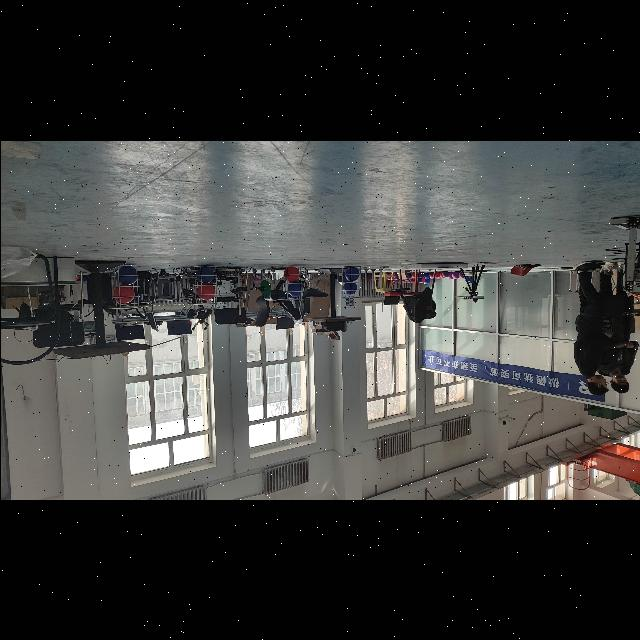B: (114, 265, 136, 285), (285, 280, 303, 298), (196, 266, 212, 282), (342, 280, 356, 294), (344, 266, 358, 280)
R: (112, 284, 134, 304), (198, 282, 215, 300), (283, 266, 299, 280)
S: (108, 261, 140, 311), (190, 262, 218, 306), (280, 263, 304, 303), (340, 262, 362, 300)
